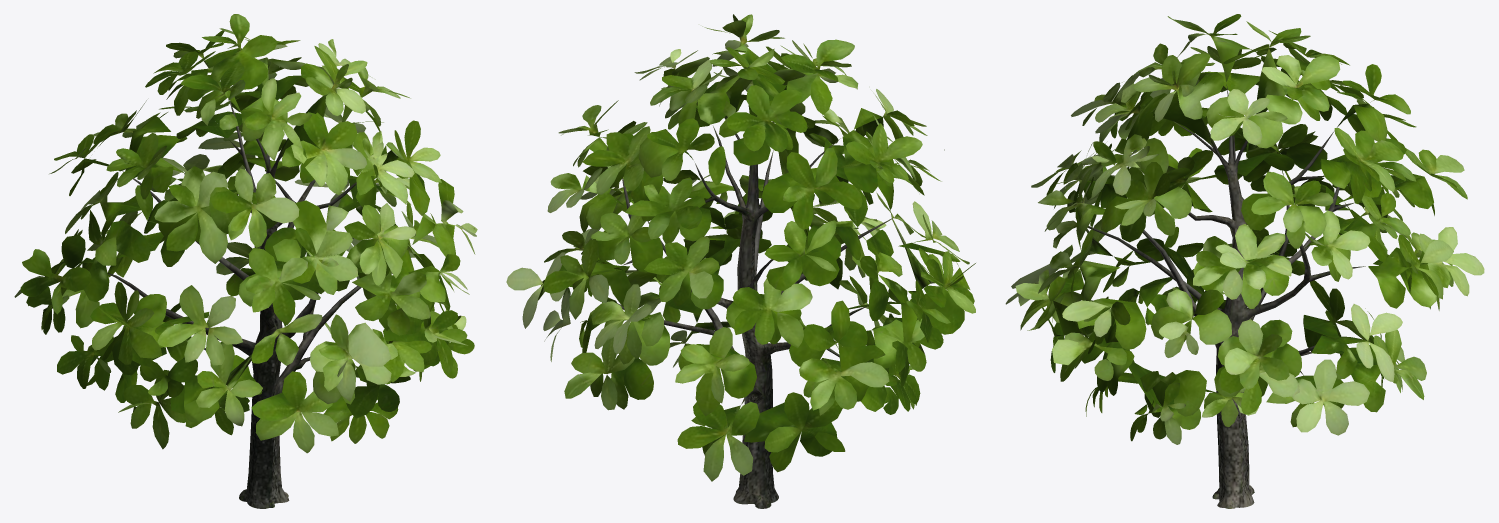
Rendered from neem_src.glb.
The picture shows the model from 3 angles, left to right: view 1: azimuth 30°, elevation 25°; view 2: azimuth 150°, elevation 25°; view 3: azimuth 270°, elevation 25°; orthographic projection. The views are drawn at different scales.
Visible parts, largest first — view 1: tripo_node_39afb394-e04b-4925-9170-7227aa010af9; view 2: tripo_node_39afb394-e04b-4925-9170-7227aa010af9; view 3: tripo_node_39afb394-e04b-4925-9170-7227aa010af9.
Part boxes in pixels (box(x1,y1,x2,y2)): tripo_node_39afb394-e04b-4925-9170-7227aa010af9: box(14, 14, 477, 508); tripo_node_39afb394-e04b-4925-9170-7227aa010af9: box(506, 14, 975, 508); tripo_node_39afb394-e04b-4925-9170-7227aa010af9: box(1005, 14, 1484, 508).
Bounding box in the file's own units: 0.9204 × 0.9995 × 0.9312.
Materials: 1 (1 with a texture image).
